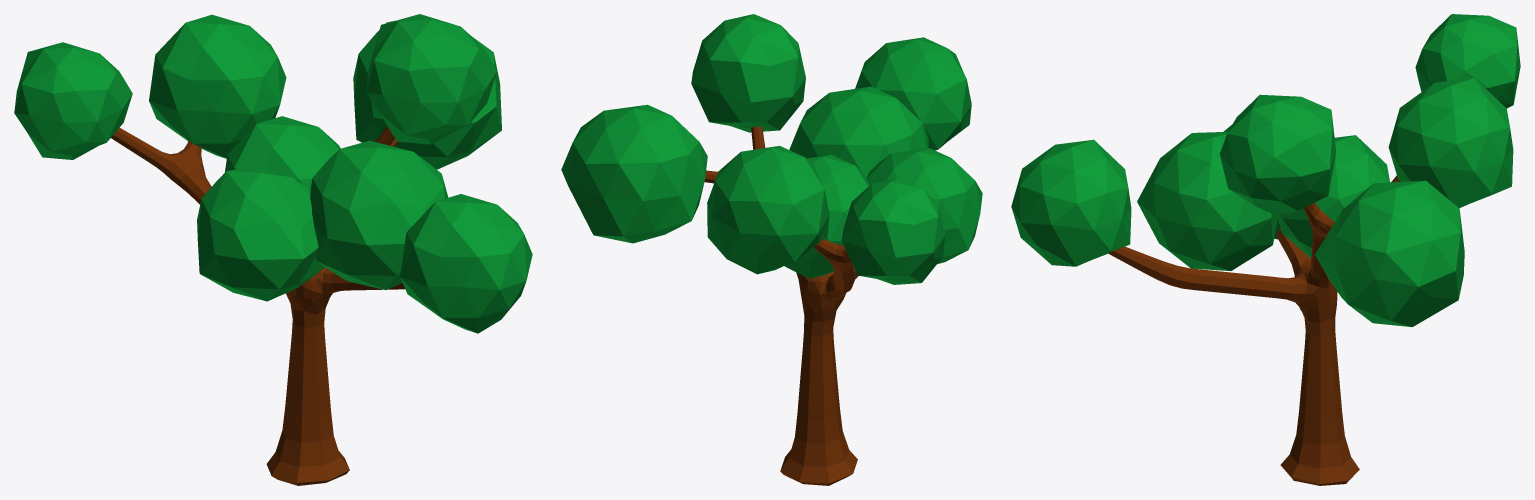
File: ballTree.fbx
3 renders of one model, left to right at view 1: azimuth 30°, elevation 25°; view 2: azimuth 150°, elevation 25°; view 3: azimuth 270°, elevation 25°, orthographic. The views are drawn at different scales.
Parts seen in each view (by area): view 1: Plane.001; view 2: Plane.001; view 3: Plane.001.
Part boxes in pixels (<box>): Plane.001: <box>14,14,532,485</box>; Plane.001: <box>561,14,982,485</box>; Plane.001: <box>1011,14,1520,485</box>.
Size of the model in its own units: 951 by 937 by 1031.
